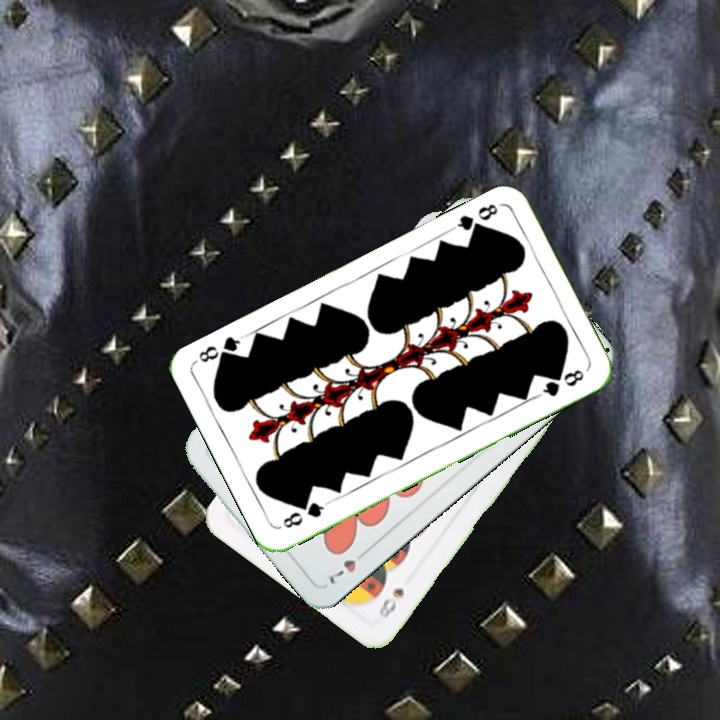G8: (449, 199, 501, 238), (278, 497, 331, 531)
H7: (325, 544, 371, 588)
S8: (374, 583, 407, 622)
